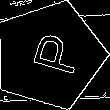P_W: (19, 30, 80, 80)
